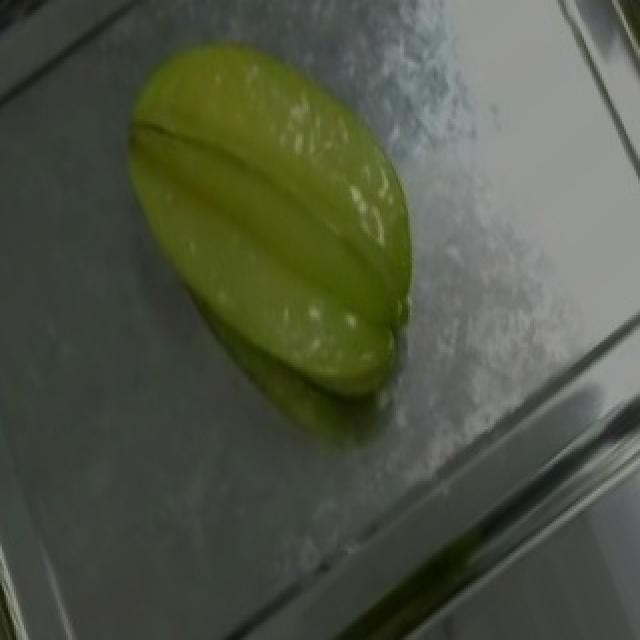fruit: (106, 5, 490, 442)
